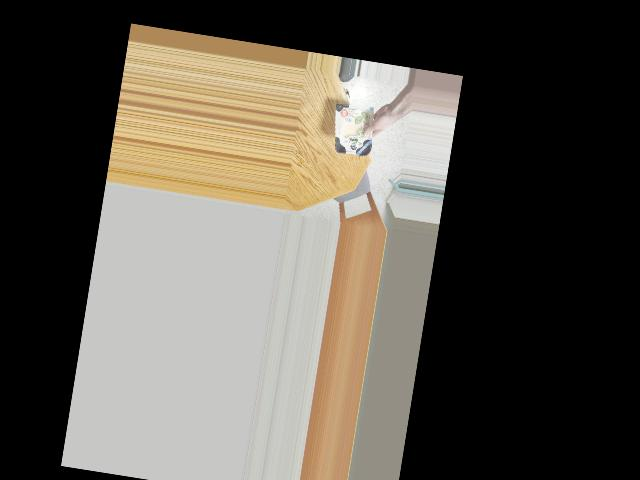cheese: (334, 93, 382, 164)
